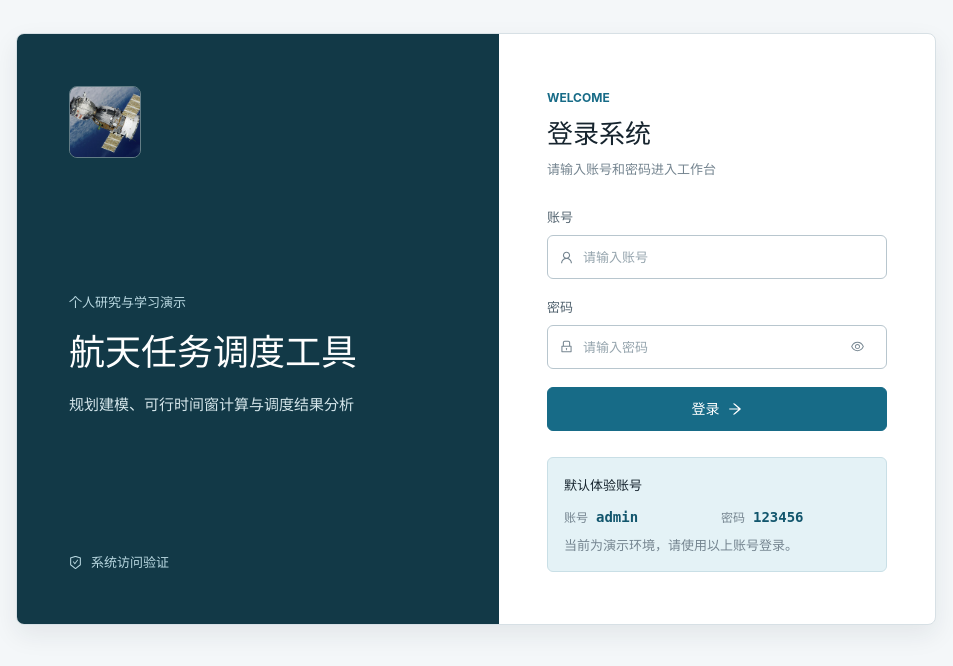
Test case: login page › reports invalid credentials without authenticating
This screenshot has width=953, height=666.
In the field named "username": (728, 257) 583,236 -> 874,278, type "admin"
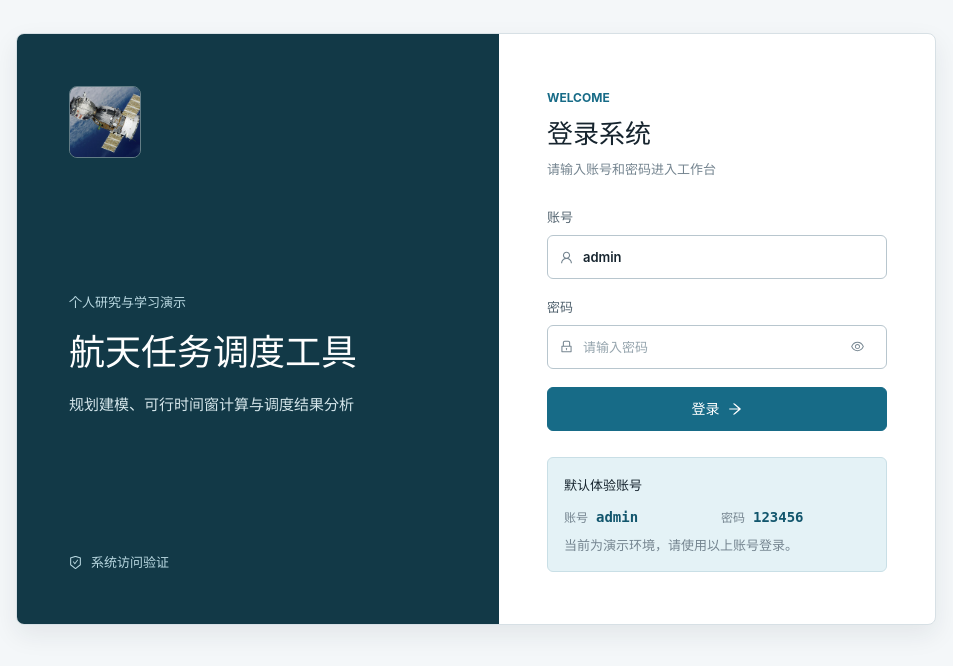
In the password field named "password": (707, 347) 583,326 -> 832,368, type "wrong"
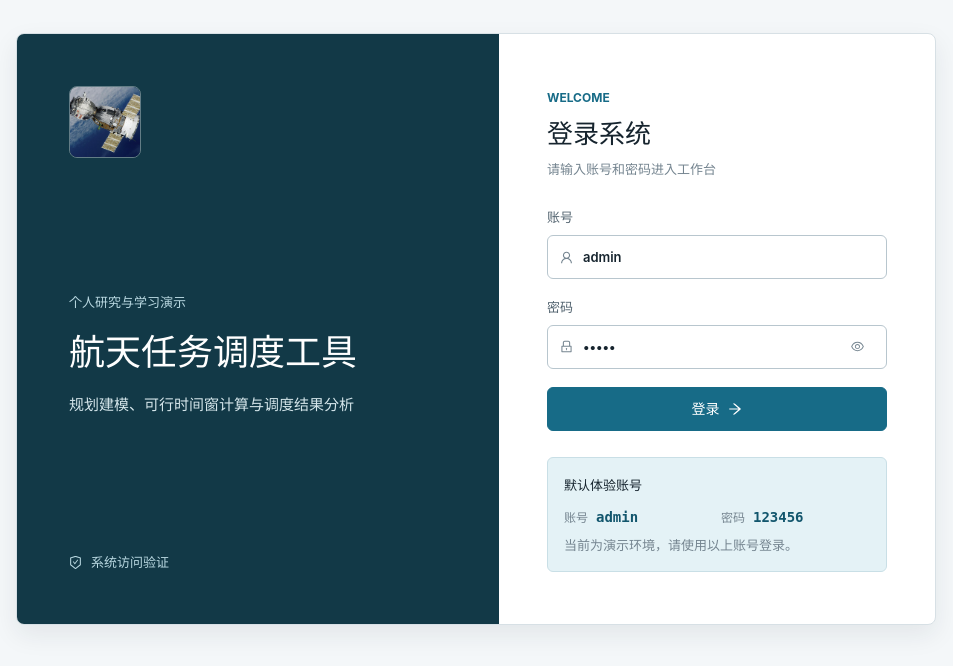
Submit the form, box 547,207 -> 887,431
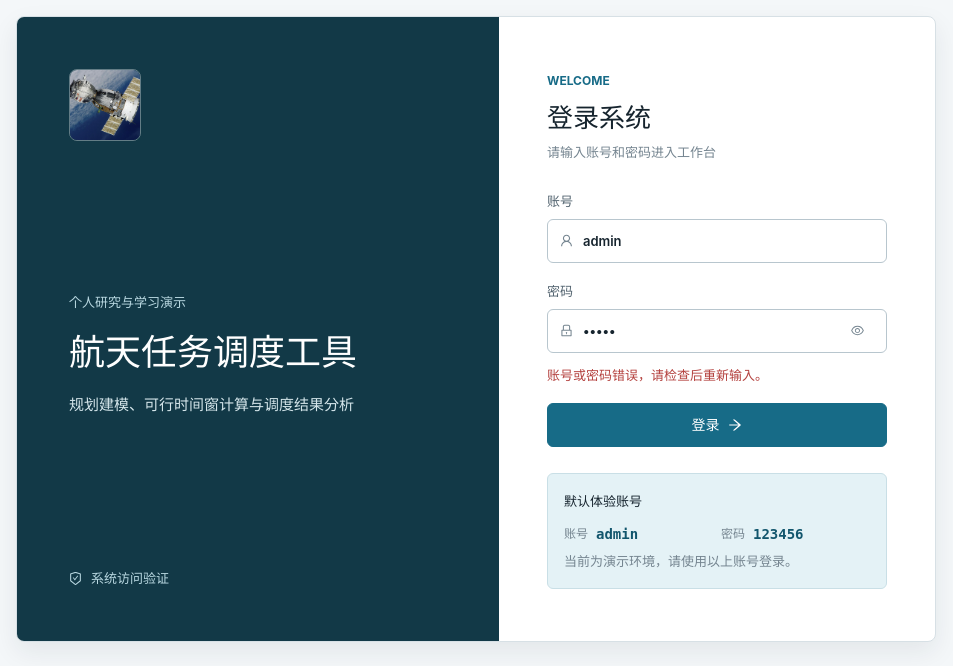
Check: the message "账号或密码错误，请检查后重新输入。" is shown, box 547,366 -> 768,382
